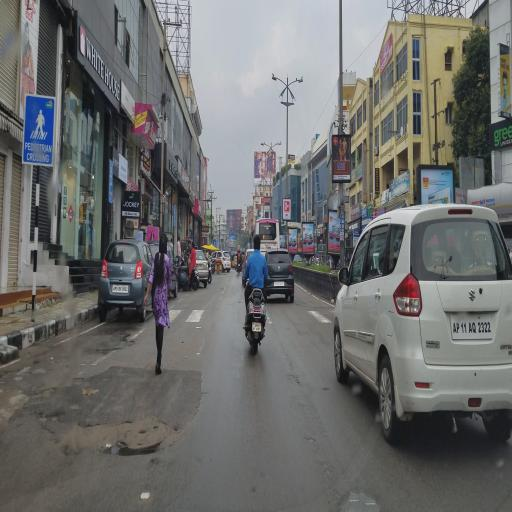street_light_0: (269, 65, 289, 99), (288, 70, 306, 96), (268, 136, 284, 156), (258, 135, 274, 155)
